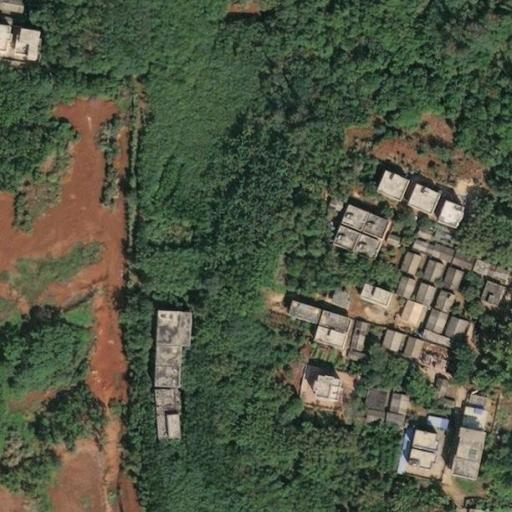building: (405, 343, 451, 378), (0, 21, 30, 57), (410, 328, 451, 353), (145, 342, 167, 385), (365, 165, 395, 195), (144, 300, 169, 336), (395, 179, 426, 208), (409, 258, 439, 287), (299, 367, 329, 395), (387, 250, 416, 278), (342, 228, 370, 256), (467, 277, 493, 307), (322, 220, 347, 250), (301, 321, 335, 343), (427, 193, 453, 221), (437, 448, 467, 472), (307, 306, 339, 328), (442, 430, 471, 454), (274, 207, 301, 232), (431, 263, 454, 292), (277, 295, 306, 318), (348, 275, 378, 297), (481, 207, 506, 233), (432, 315, 456, 342), (330, 201, 354, 227), (389, 298, 412, 325), (395, 445, 424, 466), (353, 210, 377, 235), (414, 308, 437, 334), (145, 385, 167, 411), (290, 336, 312, 362), (351, 385, 374, 409), (399, 423, 425, 444), (402, 283, 425, 306), (369, 328, 390, 353), (422, 290, 443, 314), (445, 417, 473, 435), (145, 411, 166, 435), (438, 252, 464, 271), (382, 276, 403, 299), (473, 266, 499, 284), (451, 405, 476, 423), (392, 336, 411, 358), (454, 392, 477, 410), (337, 328, 354, 352), (318, 281, 338, 301), (379, 392, 397, 414), (420, 380, 436, 403), (167, 307, 178, 339), (353, 406, 373, 423), (422, 246, 442, 262), (431, 388, 447, 406), (317, 196, 336, 211), (373, 230, 389, 247), (460, 261, 477, 276), (411, 240, 426, 256), (400, 237, 415, 252), (374, 412, 392, 424), (404, 228, 420, 241), (414, 416, 429, 427), (342, 320, 356, 331), (430, 403, 441, 415), (376, 422, 385, 434), (427, 418, 436, 429), (457, 509, 469, 512), (444, 509, 455, 512), (469, 511, 484, 512)
